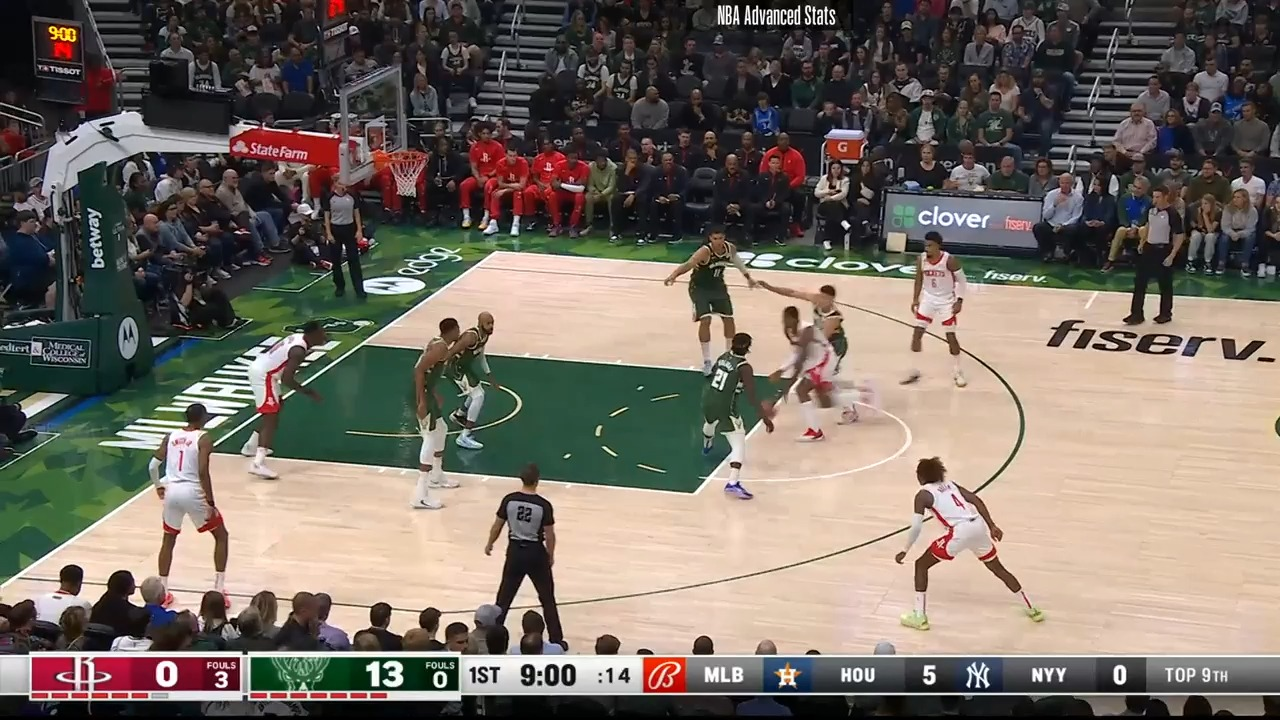net: (378, 144, 434, 204)
player: (893, 456, 1050, 634), (145, 399, 232, 598), (243, 320, 333, 482), (774, 306, 879, 443), (664, 226, 756, 373), (701, 329, 776, 508), (405, 315, 463, 513), (907, 232, 979, 391), (753, 269, 850, 369), (441, 307, 499, 455)
referee: (486, 462, 569, 647), (1127, 185, 1185, 330), (323, 181, 367, 308)
